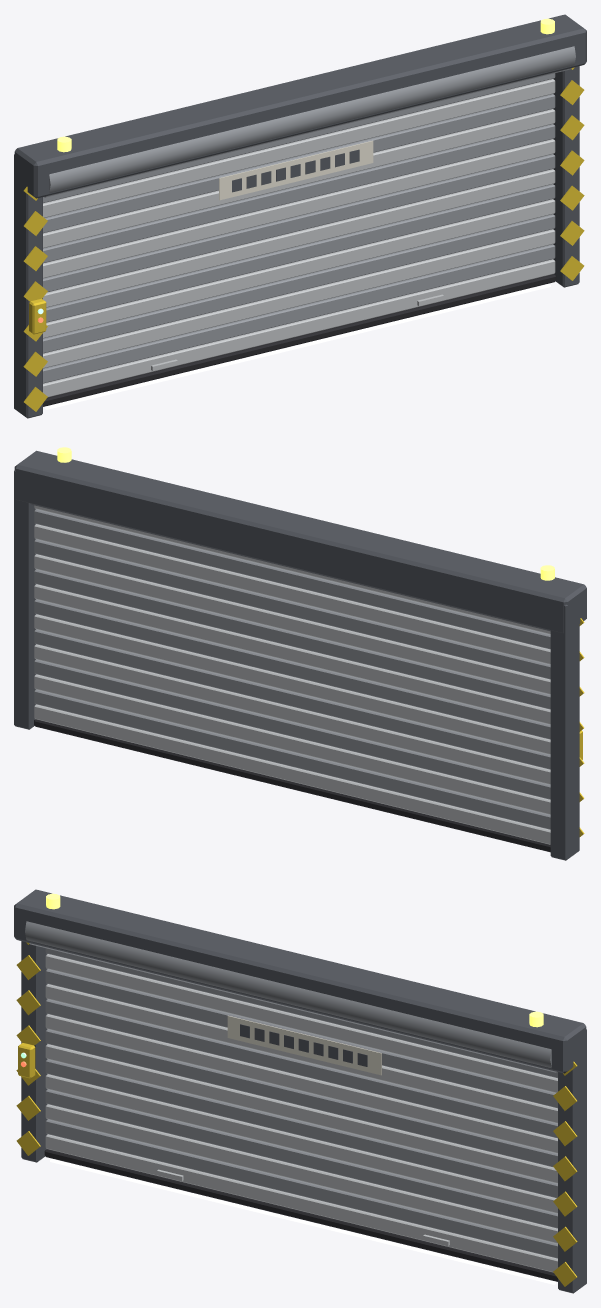
Rendered from shutter_roller.glb.
3 renders of one model, top to bottom at view 1: azimuth 30°, elevation 25°; view 2: azimuth 150°, elevation 25°; view 3: azimuth 330°, elevation 25°, orthographic.
Visible parts, largest first — view 1: shutter_roller; view 2: shutter_roller; view 3: shutter_roller.
Boxes of the visible parts, left/top/right/bottom form: shutter_roller: left=14, top=14, right=586, bottom=418; shutter_roller: left=14, top=447, right=586, bottom=860; shutter_roller: left=14, top=889, right=586, bottom=1293.
Size of the model in its own units: 8 by 3.73 by 0.585.
